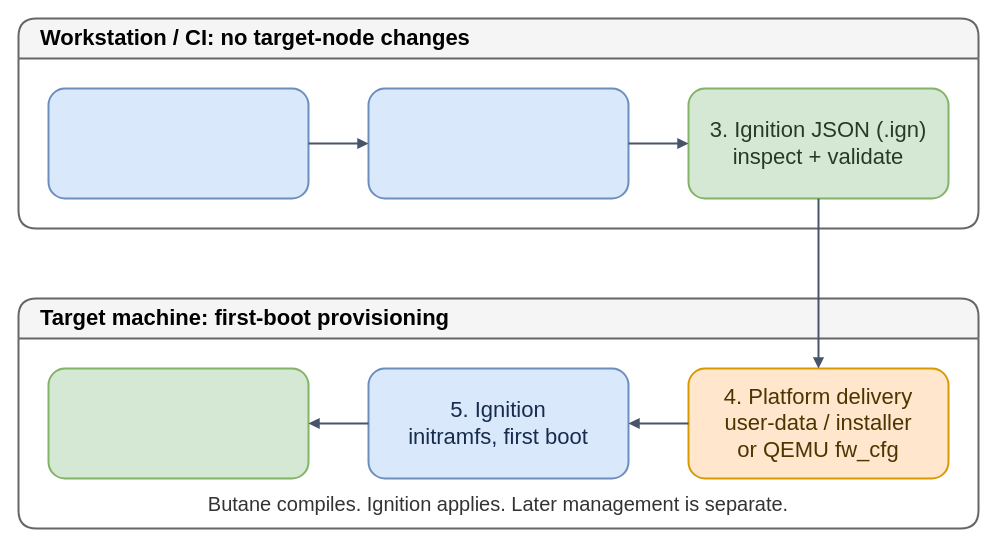
This 996x546 diagram has some shape labels left out. Each missing label, with the centre of its shape:
1. Butane YAML (.bu) variant + version: pixel 178 143
2. Butane command validate + transpile: pixel 498 143
6. Provisioned host files / users / units: pixel 178 423
